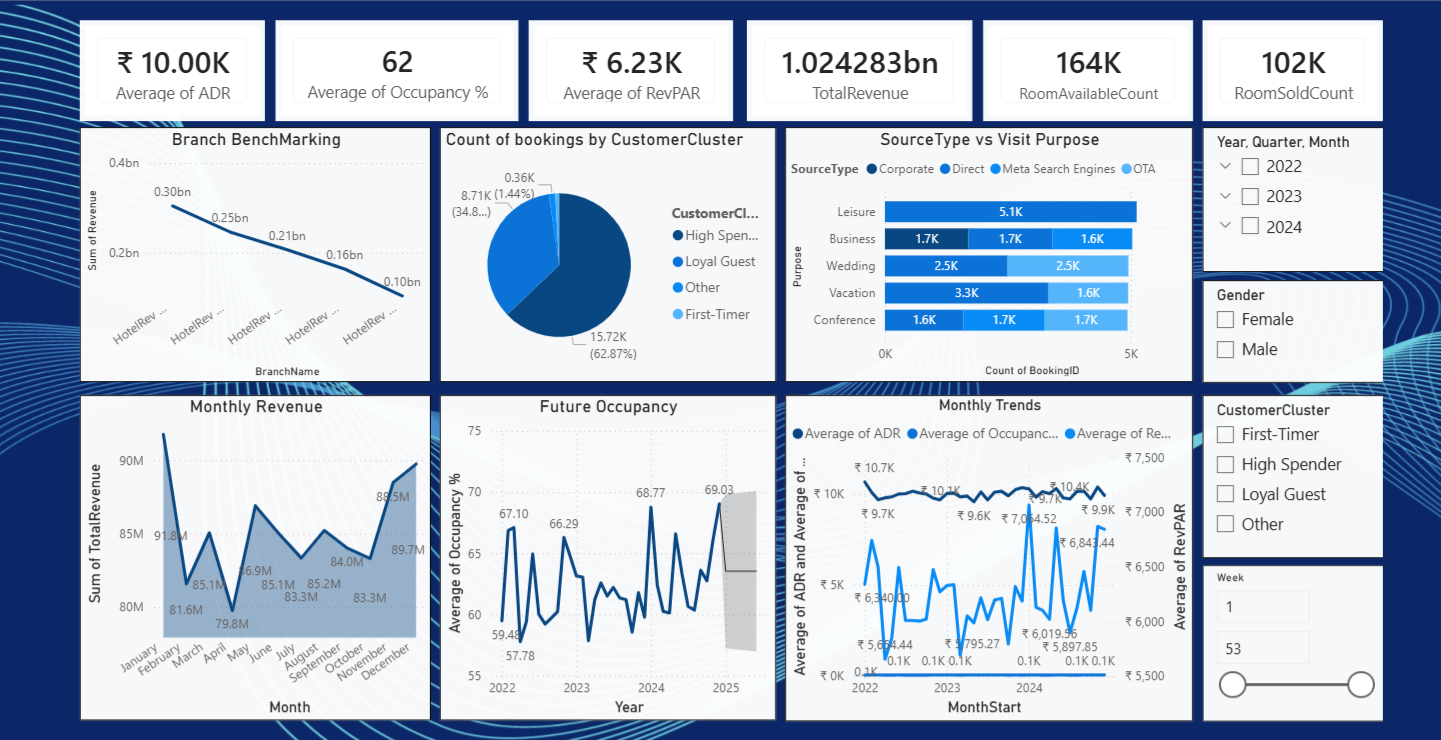

This screenshot's page, from the dashboard's own definition file:
{"tool":"powerbi","page":{"name":"GM Dashboard","canvas":[1280,720],"ordinal":10},"visuals":[{"type":"lineChart","title":"Branch BenchMarking","fields":{"Category":["HotelBranch.BranchName"],"Y":["Sum(Bookings.Revenue)"]},"box":[16.2,123.2,340.8,247.5],"z":0},{"type":"stackedAreaChart","title":"Monthly Revenue","fields":{"Category":["MasterData.MonthStart.Variation.Date Hierarchy.Month"],"Y":["Sum(MasterData.TotalRevenue)"]},"box":[16.2,383.1,340.8,316],"z":1000},{"type":"lineChart","title":"Future Occupancy","fields":{"Y":["Avg(Tbl_Calculation.Occupancy %)"],"Category":["Tbl_Calculation.StayDate.Variation.Date Hierarchy.Year","Tbl_Calculation.StayDate.Variation.Date Hierarchy.Quarter","Tbl_Calculation.StayDate.Variation.Date Hierarchy.Month"]},"box":[365.7,383.1,325.9,316],"z":2000},{"type":"actionButton","box":[0,0,100,40],"z":3000},{"type":"slicer","fields":{"Values":["Tbl_Calculation.Week"]},"box":[1095.9,547.3,154.3,151.8],"z":4000},{"type":"slicer","fields":{"Values":["Customer.Gender"]},"box":[1095.9,281.1,154.3,89.6],"z":5000},{"type":"cardVisual","fields":{"Data":["Avg(MasterData.ADR)"]},"box":[7.5,0,182.9,118.2],"z":6000},{"type":"slicer","fields":{"Values":["MasterData.MonthStart.Variation.Date Hierarchy.Year","MasterData.MonthStart.Variation.Date Hierarchy.Quarter","MasterData.MonthStart.Variation.Date Hierarchy.Month"]},"box":[1095.9,123.2,154.3,149.3],"z":7000},{"type":"pieChart","title":"Count of bookings by CustomerCluster","fields":{"Category":["Bookings.CustomerCluster"],"Y":["CountNonNull(Bookings.CustomerID)"]},"box":[365.7,123.2,325.9,247.5],"z":8000},{"type":"barChart","title":"SourceType vs Visit Purpose","fields":{"Y":["CountNonNull(Bookings.BookingID)"],"Category":["Bookings.Purpose"],"Series":["Bookings.SourceType"]},"box":[700.3,123.2,384.4,247.5],"z":9000},{"type":"slicer","fields":{"Values":["Bookings.CustomerCluster"]},"box":[1095.9,383.1,154.3,153],"z":10000},{"type":"cardVisual","fields":{"Data":["Avg(MasterData.Occupancy %)"]},"box":[186.6,3.7,211.5,114.4],"z":11000},{"type":"cardVisual","fields":{"Data":["Sum(MasterData.TotalRevenue)"]},"box":[584.7,2.5,231.4,115.7],"z":12000},{"type":"cardVisual","fields":{"Data":["Avg(MasterData.RevPAR)"]},"box":[398.1,3.7,187.8,114.4],"z":13000},{"type":"cardVisual","fields":{"Data":["Sum(MasterData.RoomAvailableCount)"]},"box":[816,0,237.6,118.2],"z":14000},{"type":"cardVisual","fields":{"Data":["Sum(MasterData.RoomSoldCount)"]},"box":[1053.6,0,211.5,118.2],"z":15000},{"type":"lineChart","title":" Monthly Trends","fields":{"Y":["Avg(MasterData.ADR)","Avg(MasterData.Occupancy %)"],"Y2":["Avg(MasterData.RevPAR)"],"Category":["MasterData.MonthStart"]},"box":[700.3,383.1,384.4,316],"z":16000}]}

Visuals, with their boxes on the page's 1280x720 design canvas (x1, y1, x2, y2). These are canvas units, not pixel positions in the 1441x740 screenshot, which may show the page scaled, cropped or inside an application window:
"Branch BenchMarking" lineChart: (x1=16, y1=123, x2=357, y2=371)
"Monthly Revenue" stackedAreaChart: (x1=16, y1=383, x2=357, y2=699)
"Future Occupancy" lineChart: (x1=366, y1=383, x2=692, y2=699)
actionButton: (x1=0, y1=0, x2=100, y2=40)
slicer - Tbl_Calculation.Week: (x1=1096, y1=547, x2=1250, y2=699)
slicer - Customer.Gender: (x1=1096, y1=281, x2=1250, y2=371)
cardVisual - Avg(MasterData.ADR): (x1=8, y1=0, x2=190, y2=118)
slicer - MasterData.MonthStart.Variation.Date Hierarchy.Year x MasterData.MonthStart.Variation.Date Hierarchy.Quarter: (x1=1096, y1=123, x2=1250, y2=272)
"Count of bookings by CustomerCluster" pieChart: (x1=366, y1=123, x2=692, y2=371)
"SourceType vs Visit Purpose" barChart: (x1=700, y1=123, x2=1085, y2=371)
slicer - Bookings.CustomerCluster: (x1=1096, y1=383, x2=1250, y2=536)
cardVisual - Avg(MasterData.Occupancy %): (x1=187, y1=4, x2=398, y2=118)
cardVisual - Sum(MasterData.TotalRevenue): (x1=585, y1=2, x2=816, y2=118)
cardVisual - Avg(MasterData.RevPAR): (x1=398, y1=4, x2=586, y2=118)
cardVisual - Sum(MasterData.RoomAvailableCount): (x1=816, y1=0, x2=1054, y2=118)
cardVisual - Sum(MasterData.RoomSoldCount): (x1=1054, y1=0, x2=1265, y2=118)
" Monthly Trends" lineChart: (x1=700, y1=383, x2=1085, y2=699)
